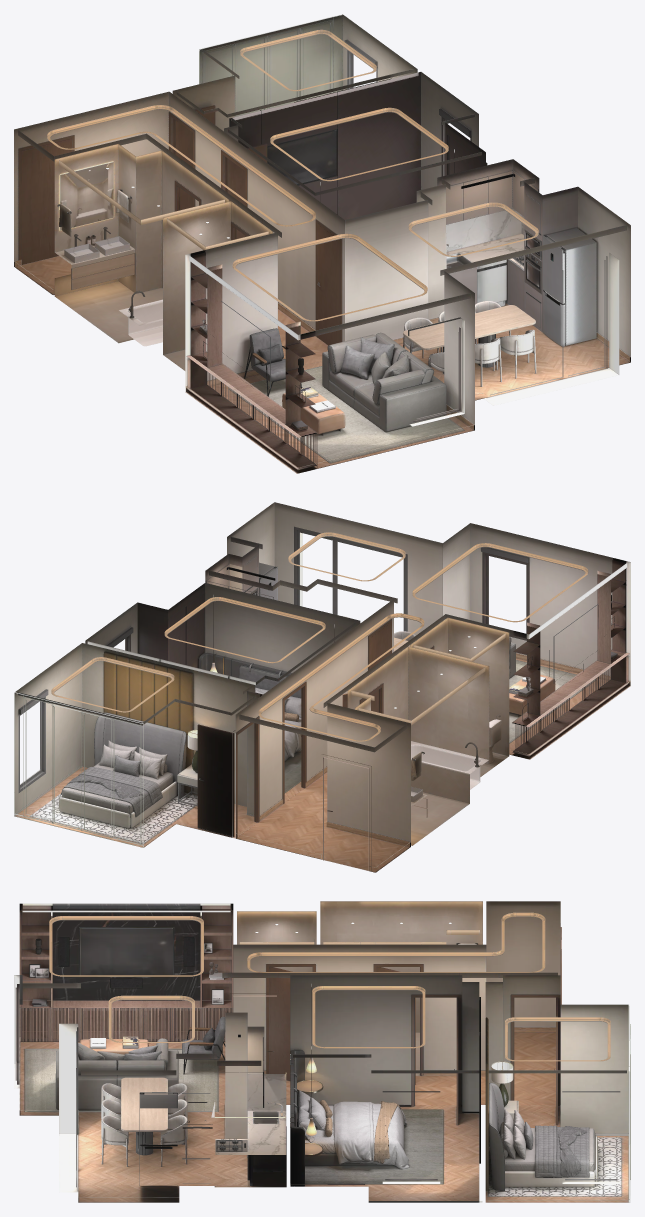
Rendered from appartement.glb.
3 views of the same model, one above another, from view 1: azimuth 30°, elevation 25°; view 2: azimuth 150°, elevation 25°; view 3: azimuth 270°, elevation 25° (orthographic). The views are drawn at different scales.
Visible parts, largest first — view 1: Object_12, Object_4, Object_10, Object_6; view 2: Object_10, Object_4, Object_12, Object_6, Object_8; view 3: Object_12, Object_10, Object_4, Object_6, Object_8.
Part boxes in pixels (box(x1,y1,x2,y2)): Object_12: box(185, 159, 630, 473); Object_4: box(14, 91, 344, 370); Object_10: box(169, 14, 487, 238); Object_6: box(18, 29, 626, 340); Object_10: box(14, 583, 360, 847); Object_4: box(235, 599, 509, 872); Object_12: box(205, 502, 630, 759); Object_6: box(18, 532, 627, 752); Object_8: box(60, 687, 301, 816); Object_12: box(14, 903, 286, 1202); Object_10: box(290, 975, 630, 1202); Object_4: box(230, 901, 561, 1104); Object_6: box(22, 912, 626, 1075); Object_8: box(297, 1090, 595, 1177).
Size of the model in its own units: 7.05 by 2.51 by 10.66.
5 materials, 5 textured.
